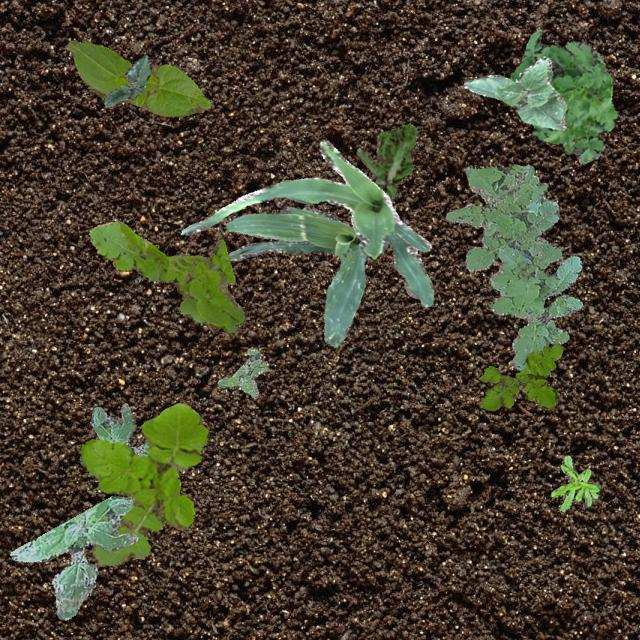crop: (180, 138, 432, 306), (225, 206, 368, 346), (64, 40, 210, 116), (462, 56, 566, 130), (102, 54, 150, 106)
weed: (444, 164, 582, 368), (78, 402, 208, 564), (89, 220, 244, 332), (10, 496, 136, 618), (509, 28, 616, 162), (478, 342, 562, 409), (356, 122, 416, 202), (90, 402, 150, 457), (550, 454, 600, 510), (216, 347, 268, 398)
